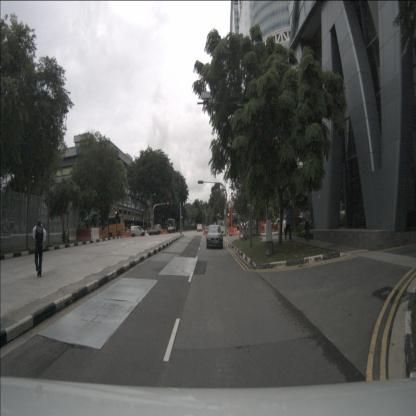barrier: (76, 228, 91, 241), (66, 228, 78, 241), (90, 227, 100, 241), (98, 227, 103, 239)
